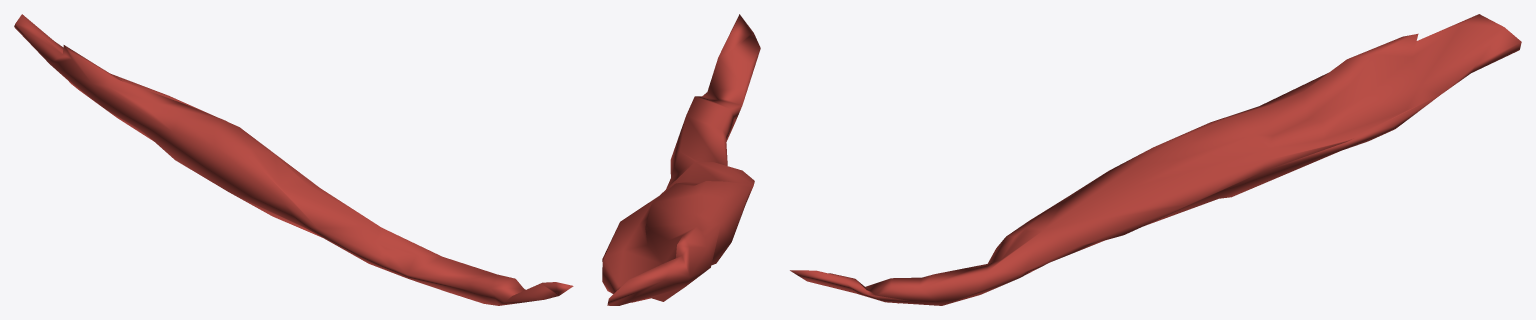
File: musculos-flexor-digiti-minimi-of-foot-l.glb
3 renders of one model, left to right at view 1: azimuth 30°, elevation 25°; view 2: azimuth 150°, elevation 25°; view 3: azimuth 270°, elevation 25°, orthographic. The views are drawn at different scales.
Parts seen in each view (by area): view 1: Flexor digiti minimi of foot.l; view 2: Flexor digiti minimi of foot.l; view 3: Flexor digiti minimi of foot.l.
Boxes of the visible parts, x1,y1,x2,y2 form: Flexor digiti minimi of foot.l: (14, 14, 573, 305); Flexor digiti minimi of foot.l: (602, 14, 760, 305); Flexor digiti minimi of foot.l: (790, 14, 1521, 305).
Bounding box in the file's own units: 0.033 × 0.0184 × 0.0726.
